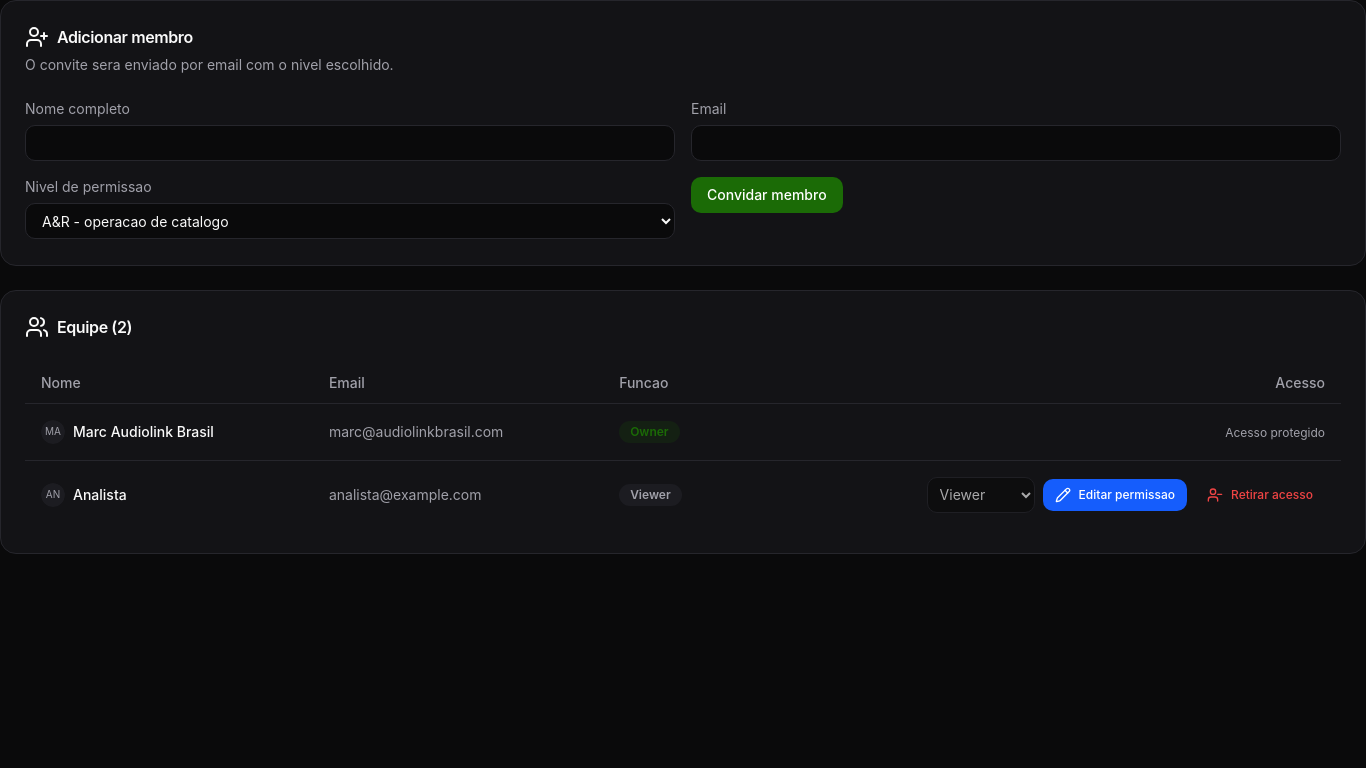
Scenario: EquipeConfigPage › renders tenant members using the admin metadata query
Expected: the text "Equipe (2)" is shown, [25,315,132,339]
Expected: the text "Marc Audiolink Brasil" is shown, [73,422,214,442]
What coordinates should you click on to do the following:
click the button "Editar permissao"
I would click on:
 (1115, 494)
Its box is [1043,478,1187,510].
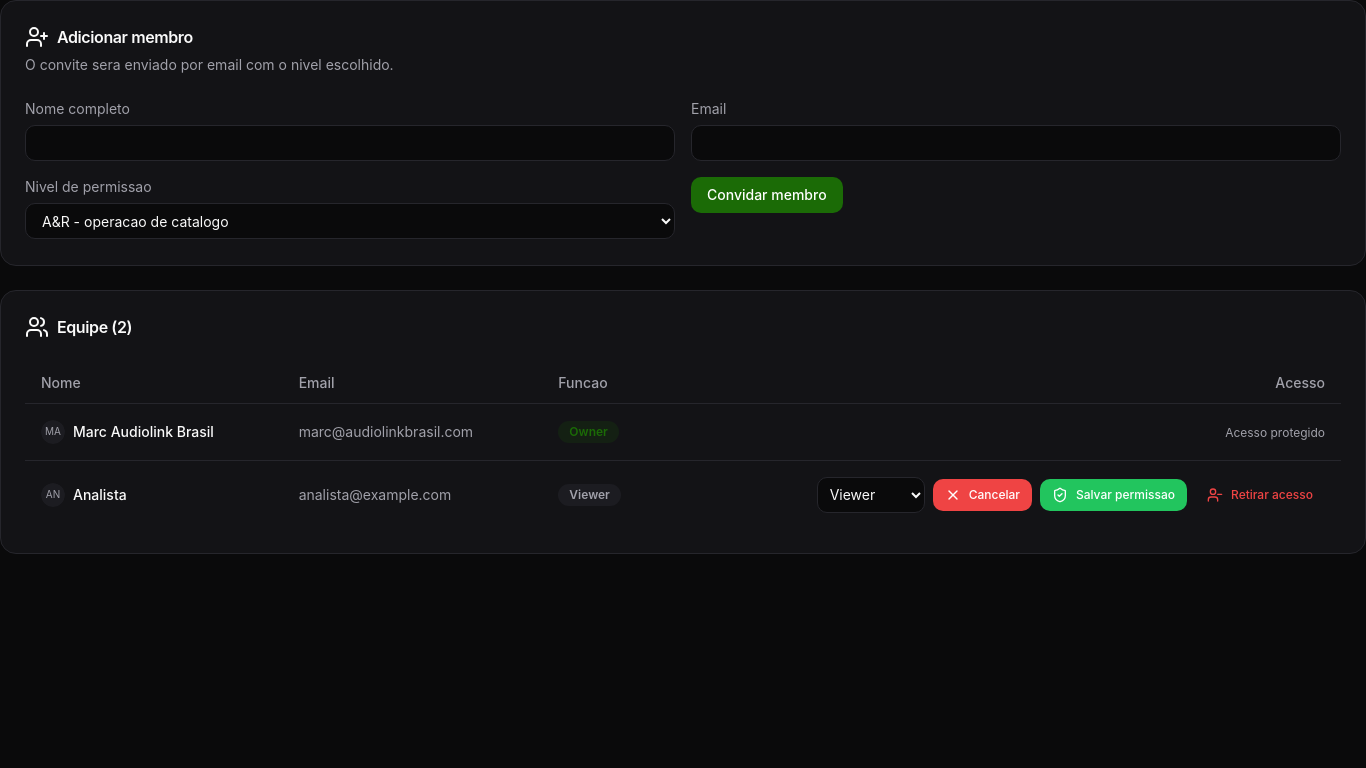
Expected: the button "Retirar acesso" is shown, [1195,478,1325,510]
Expected: the button "Salvar permissao" is shown, [1040,478,1187,510]
Expected: the dropdown named "permissao de analista" is enabled, [817,476,925,512]
